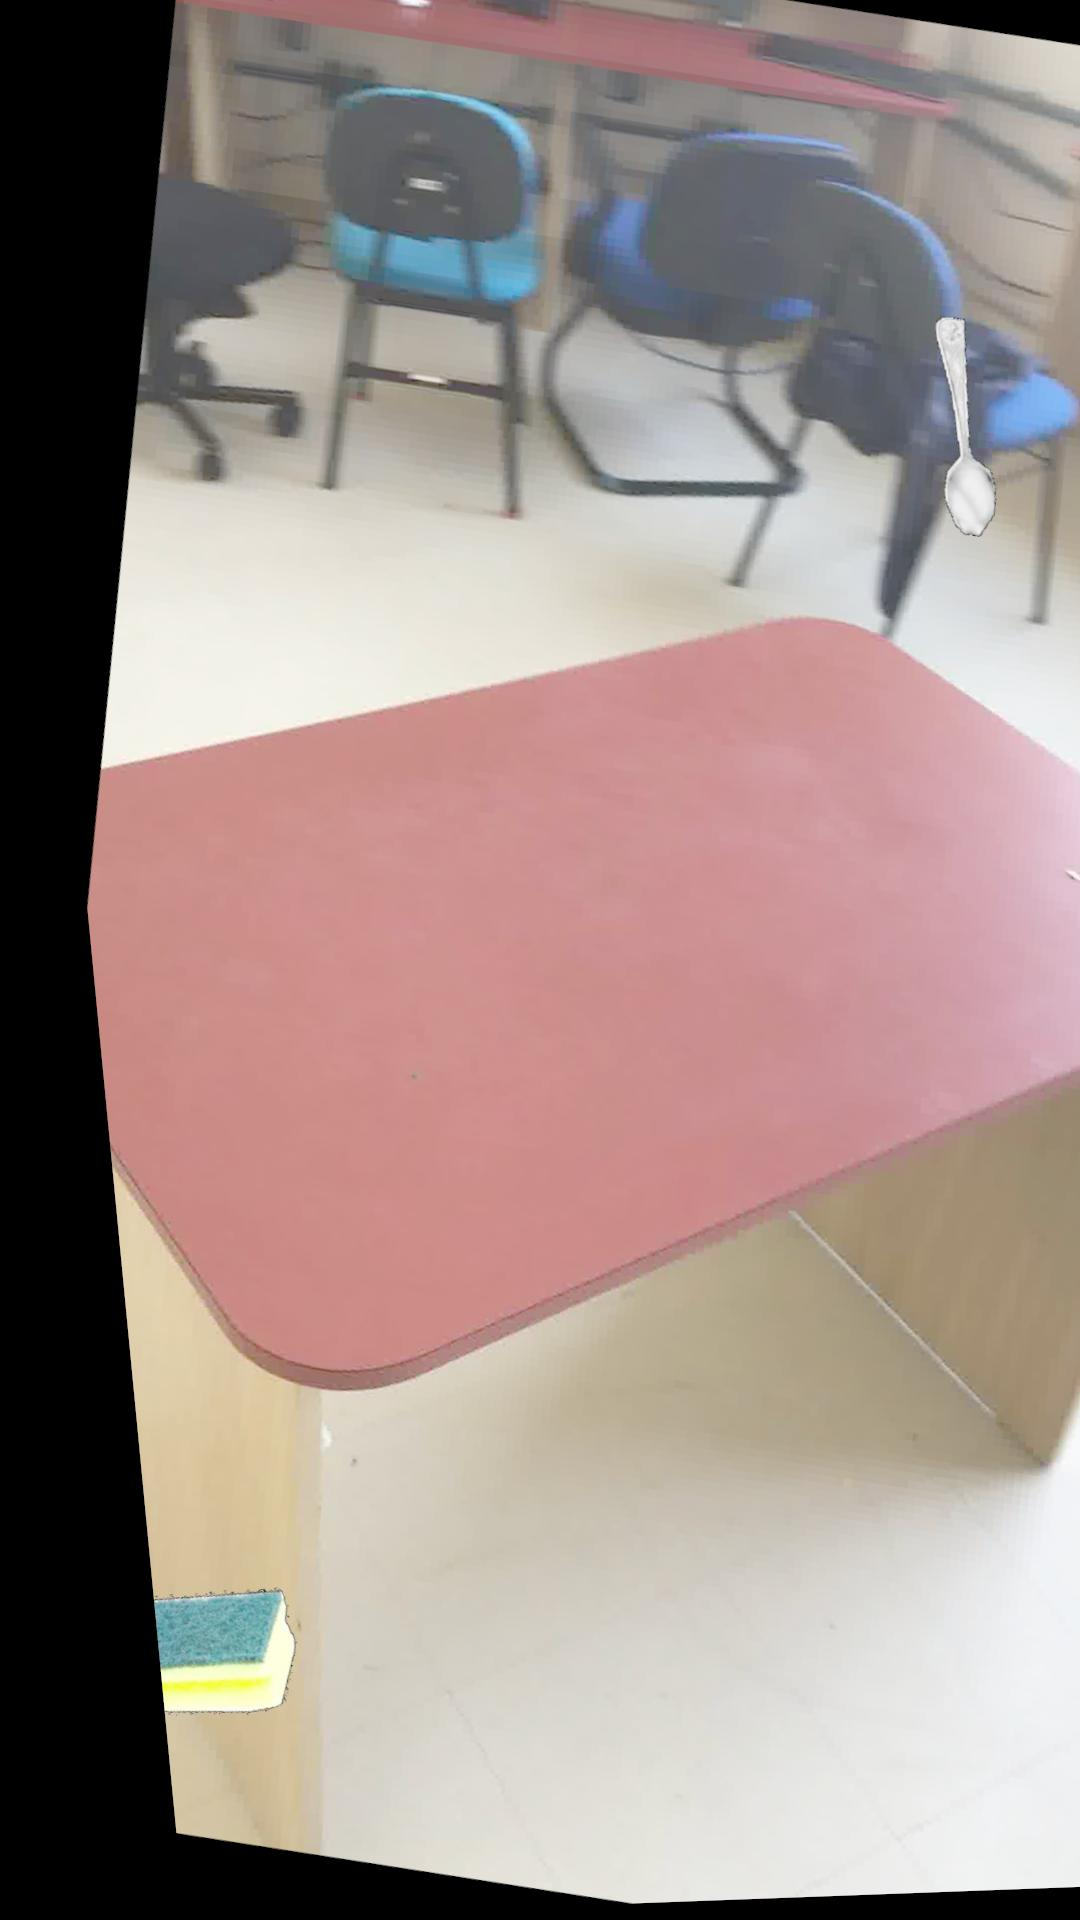sponge: (121, 1588, 261, 1712)
spoon: (927, 322, 984, 542)
